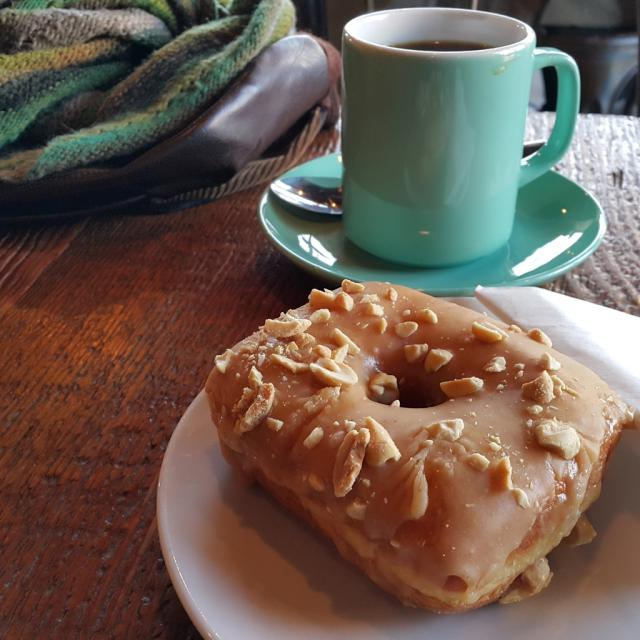Coffee: (380, 33, 498, 55)
